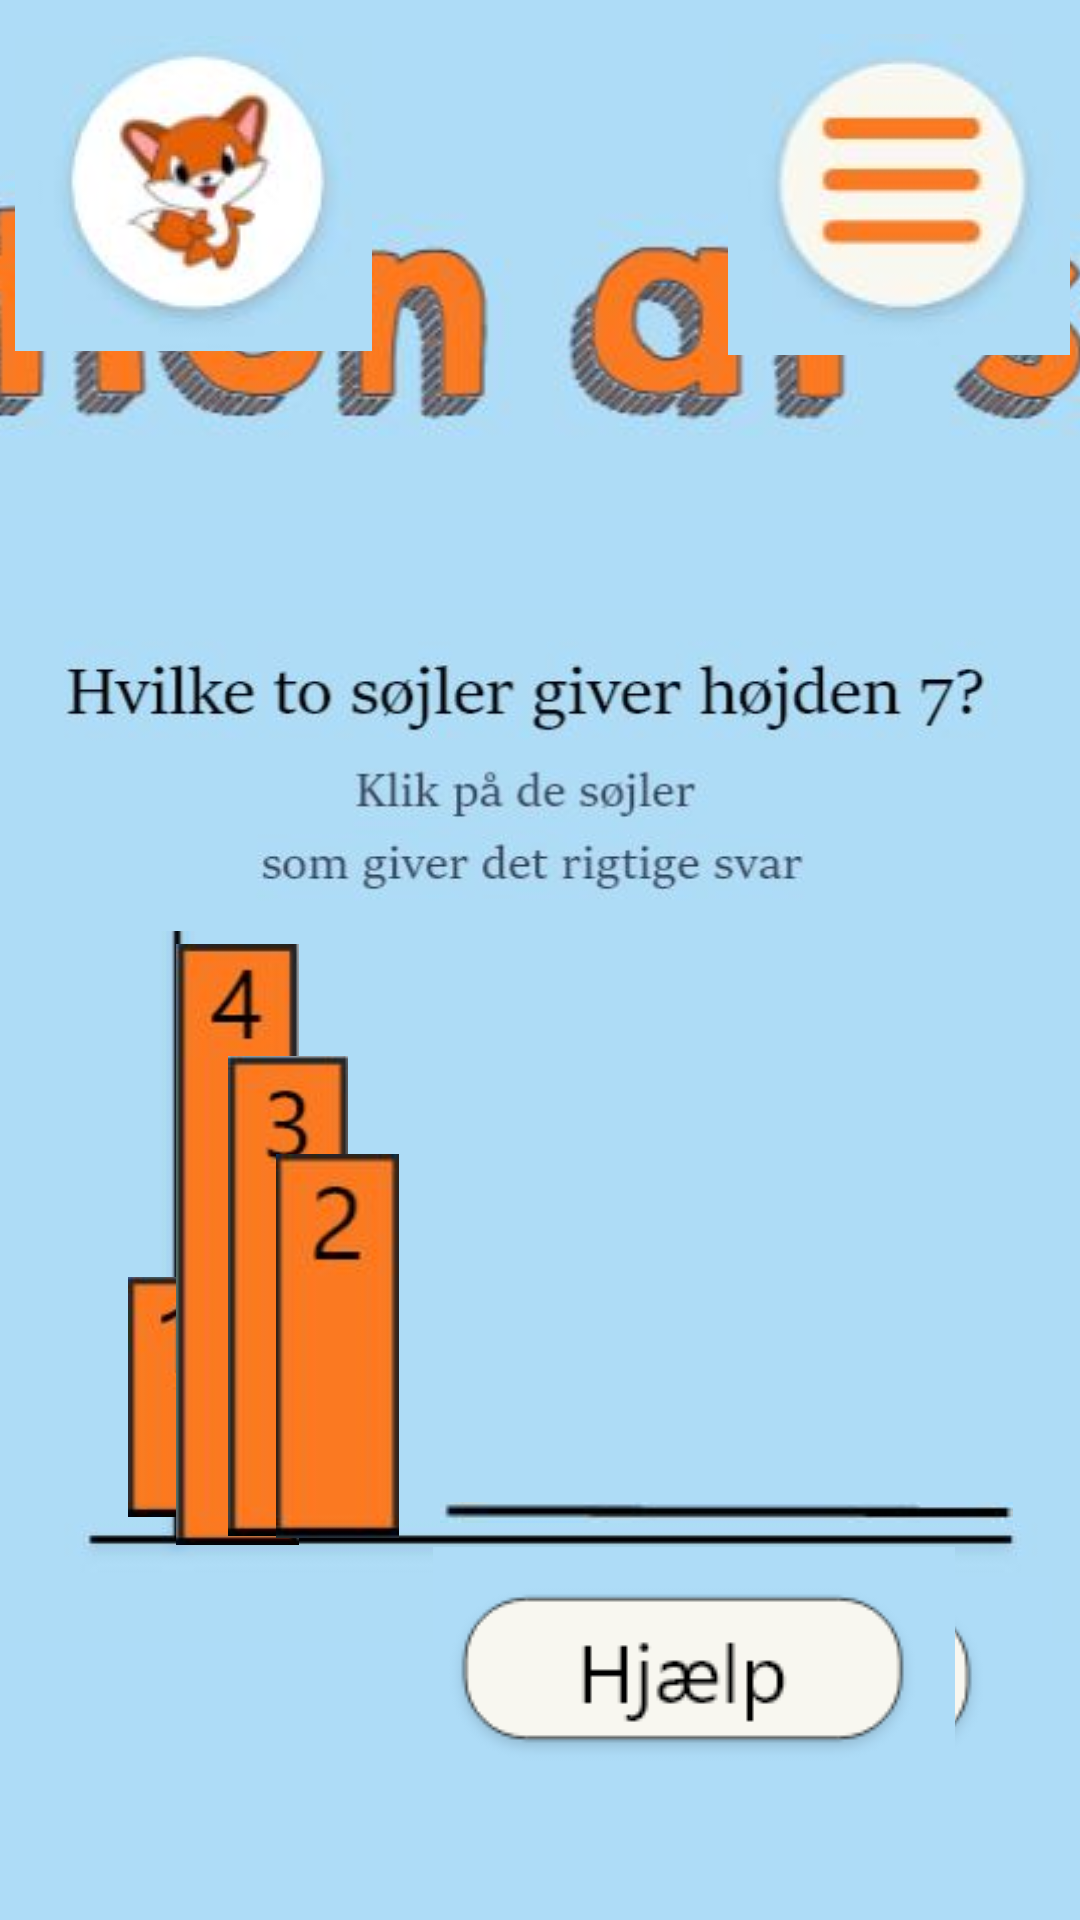

Icons on this 1080px×1920px Android screen, each with the point to tap as (x,y):
menubtn: (902,188)
